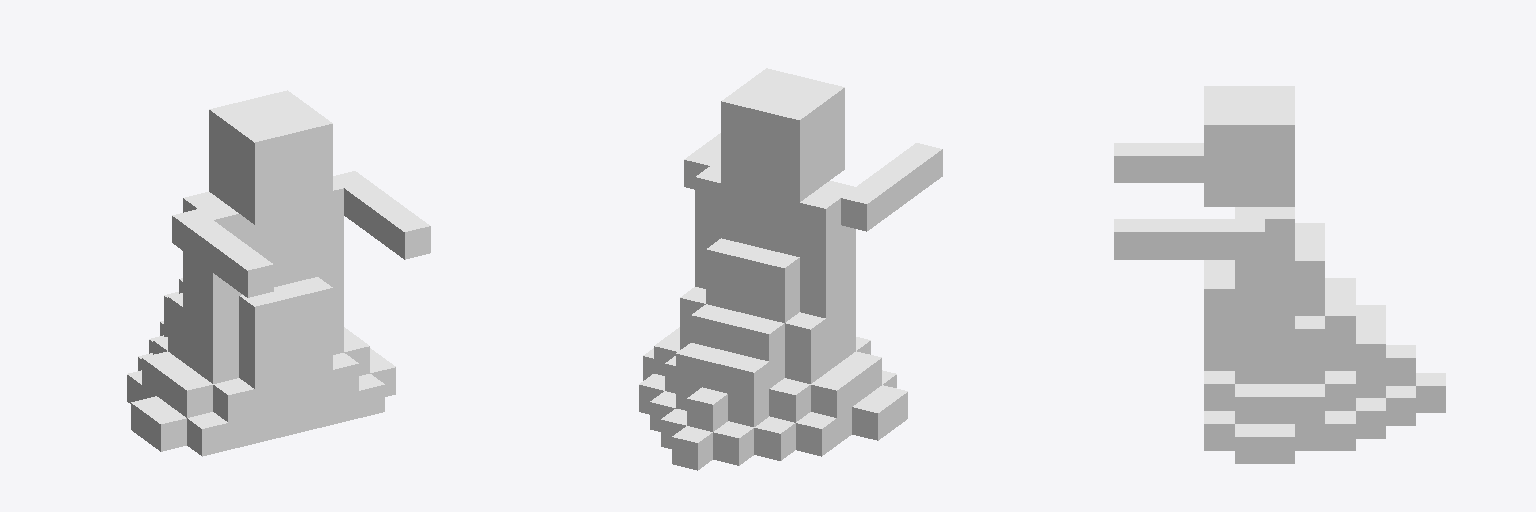
File: walk_1.obj
3 views of the same model, side by side, from view 1: azimuth 30°, elevation 25°; view 2: azimuth 150°, elevation 25°; view 3: azimuth 270°, elevation 25° (orthographic).
Size of the model in its own units: 9 by 11 by 11.